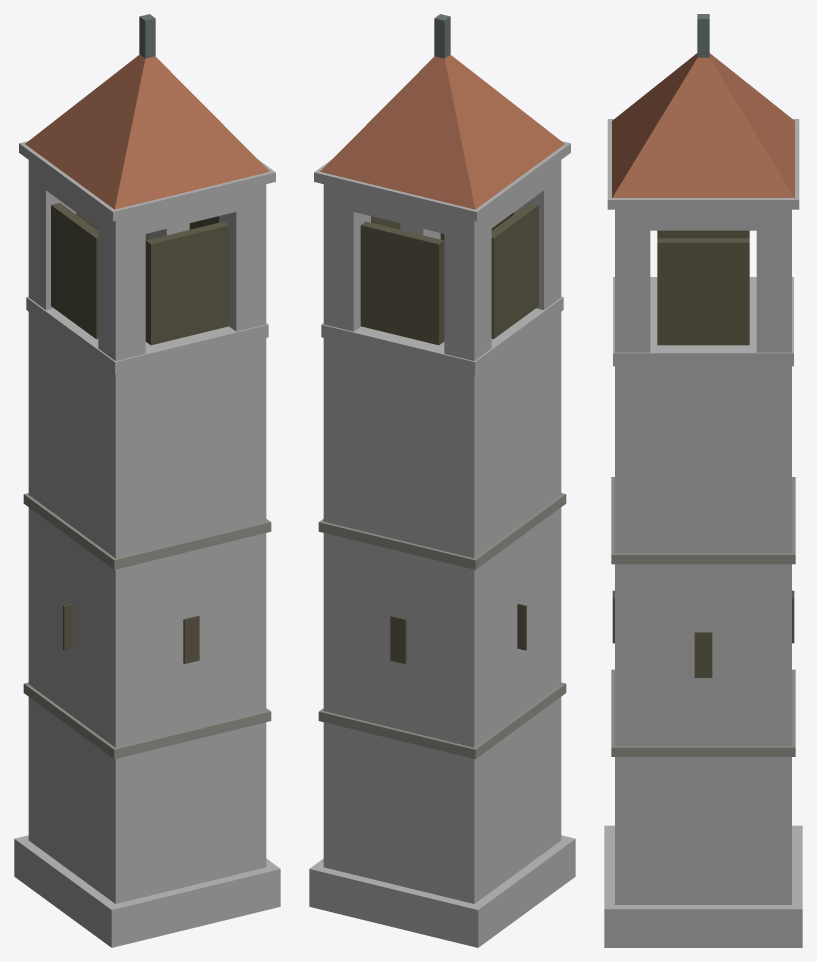
Rendered from SM_Campanario_v1_Piedra_LOD1.fbx.
3 renders of one model, left to right at view 1: azimuth 30°, elevation 25°; view 2: azimuth 150°, elevation 25°; view 3: azimuth 270°, elevation 25°, orthographic.
Parts seen in each view (by area): view 1: SM_pueblo_valenciano_v21_LOD1; view 2: SM_pueblo_valenciano_v21_LOD1; view 3: SM_pueblo_valenciano_v21_LOD1.
Boxes of the visible parts, box(x1,y1,x2,y2) form: SM_pueblo_valenciano_v21_LOD1: box(14, 14, 280, 947); SM_pueblo_valenciano_v21_LOD1: box(309, 14, 575, 947); SM_pueblo_valenciano_v21_LOD1: box(604, 14, 802, 947).
Bounding box in the file's own units: 5.6 × 27.7 × 5.6.
